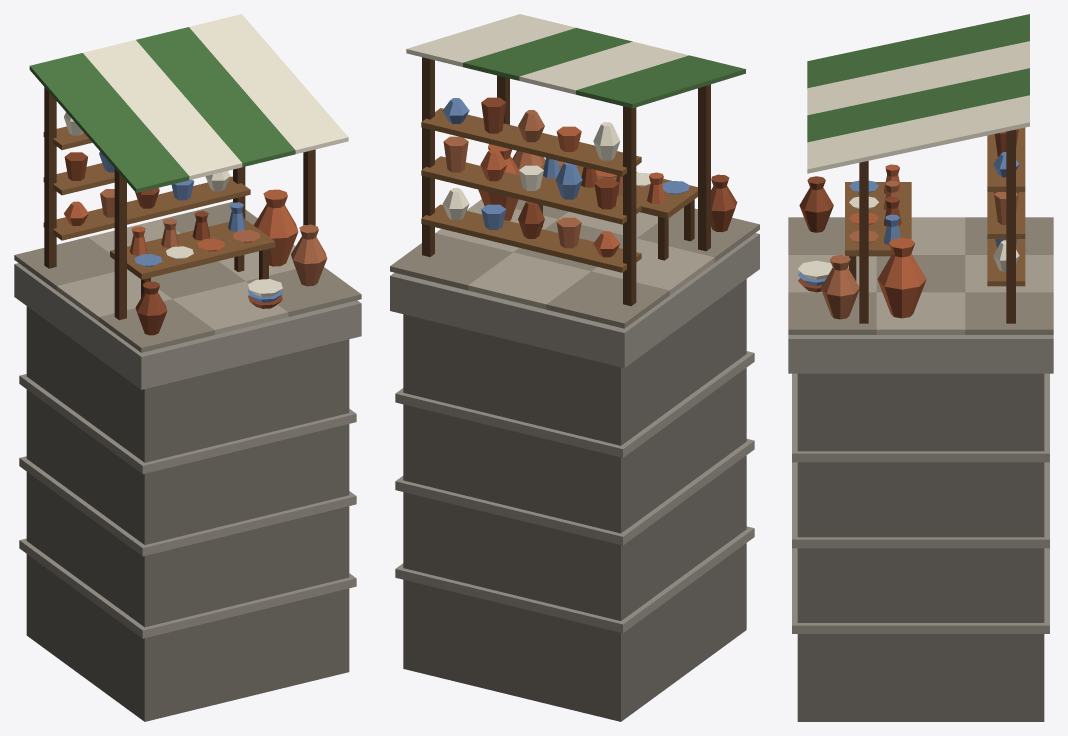
File: decor_pottery_stall.glb
3 views of the same model, side by side, from view 1: azimuth 30°, elevation 25°; view 2: azimuth 150°, elevation 25°; view 3: azimuth 270°, elevation 25° (orthographic). The views are drawn at different scales.
Visible parts, largest first — view 1: decor_pottery_stall; view 2: decor_pottery_stall; view 3: decor_pottery_stall.
Part boxes in pixels (x1,y1,x2,y2): decor_pottery_stall: [14, 14, 361, 721]; decor_pottery_stall: [390, 14, 759, 721]; decor_pottery_stall: [788, 14, 1053, 721].
Bounding box in the file's own units: 2.8 × 7 × 2.8.
